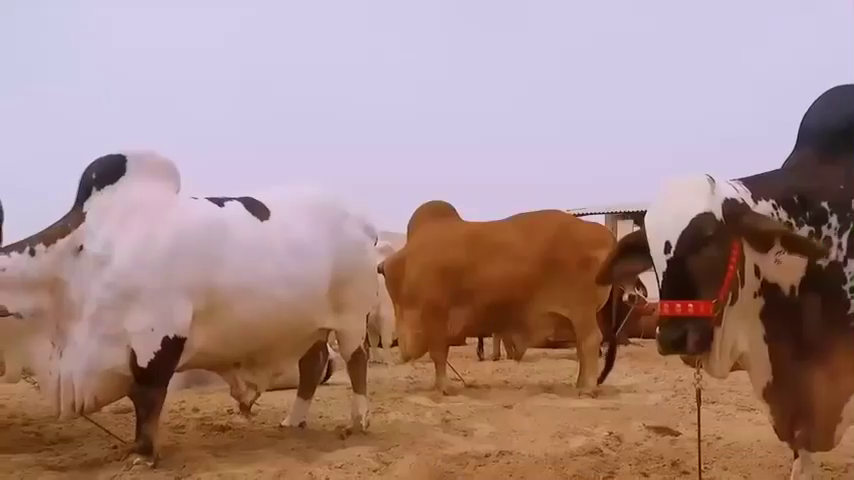bo: (2, 149, 369, 471), (601, 63, 854, 480), (377, 189, 627, 402)
